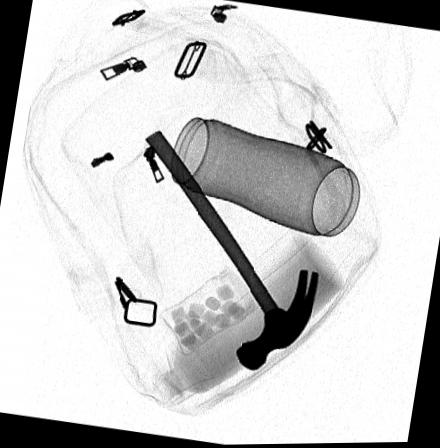Hammer: (145, 128, 322, 372)
